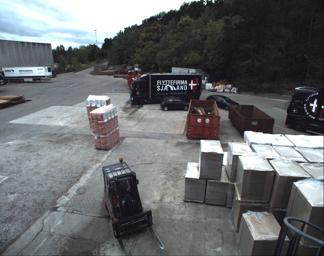rockwool_batts: (90, 104, 118, 149), (85, 94, 110, 121)
